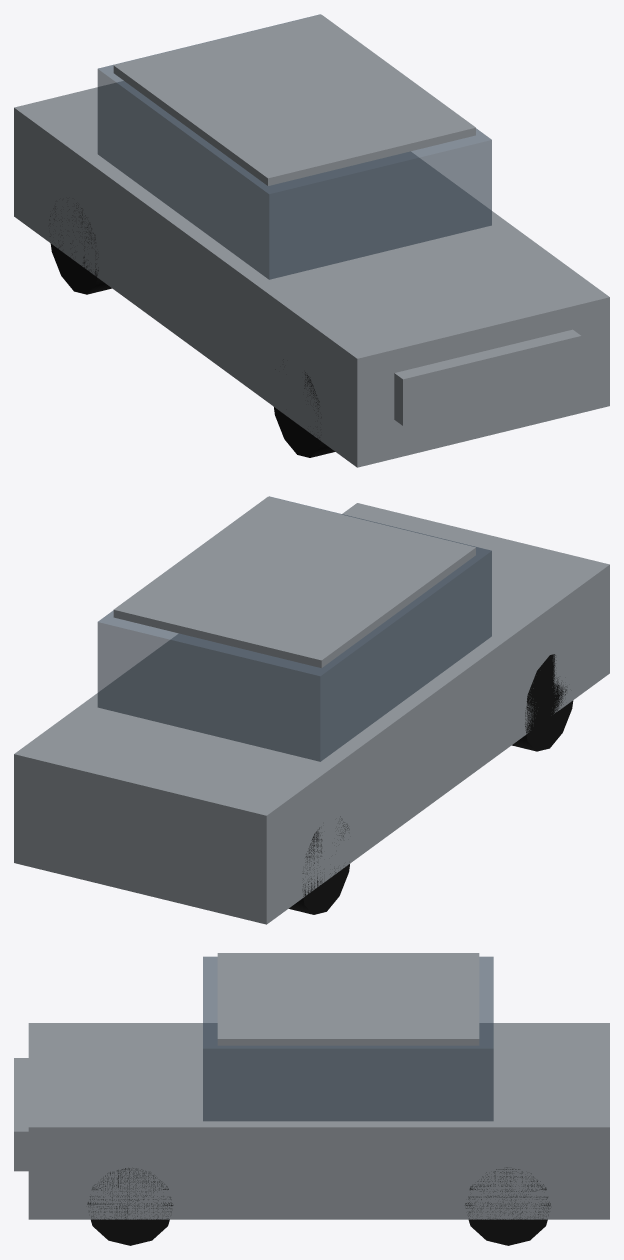
File: synthetic-box-car.glb
The picture shows the model from 3 angles, top to bottom: view 1: azimuth 30°, elevation 25°; view 2: azimuth 150°, elevation 25°; view 3: azimuth 270°, elevation 25°; orthographic projection. The views are drawn at different scales.
Visible parts, largest first — view 1: lower, cabin, roof, nose, wheel (×2); view 2: lower, cabin, roof, wheel (×2); view 3: lower, cabin, roof, wheel (×2), nose.
Boxes of the visible parts, x1,y1,x2,y2 form: lower: (14,81,609,467); cabin: (97,14,491,279); roof: (113,14,475,185); nose: (394,329,581,425); wheel (×2): (49,203,335,457); lower: (14,503,609,924); cabin: (97,496,491,761); roof: (113,496,475,667); wheel (×2): (288,654,573,914); lower: (28,1023,609,1219); cabin: (203,956,493,1121); roof: (217,953,479,1045); wheel (×2): (87,1167,550,1245); nose: (14,1058,28,1171).
Size of the model in its own units: 0.85 by 0.75 by 2.05.
